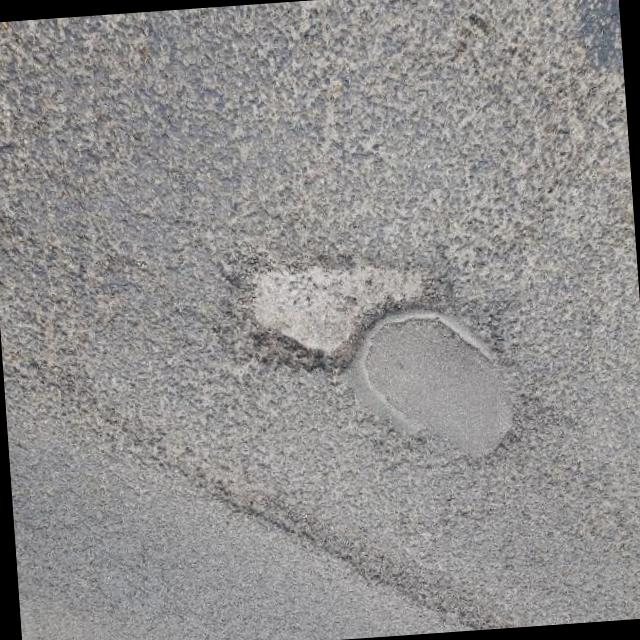pothole: (220, 238, 462, 394)
